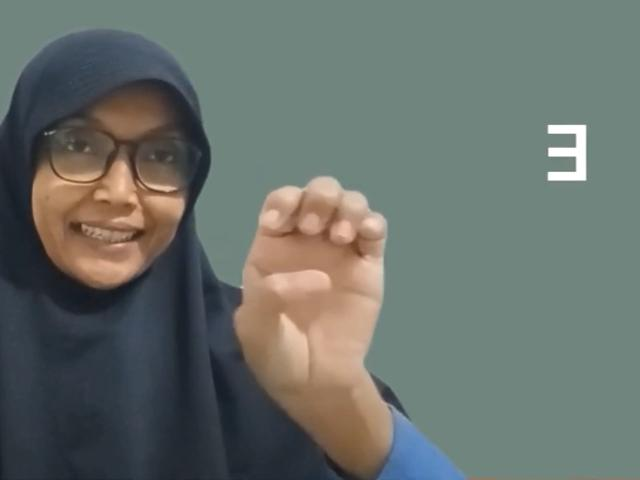E: (233, 174, 389, 398)
